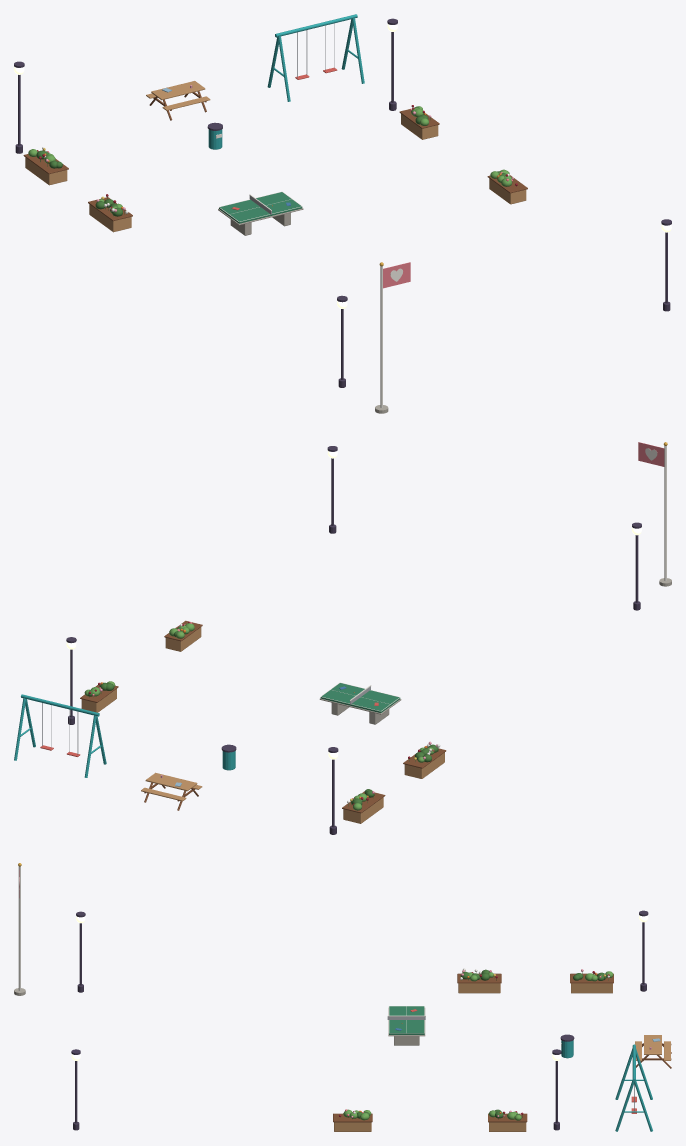
File: yard-props.glb
3 views of the same model, one above another, from view 1: azimuth 30°, elevation 25°; view 2: azimuth 150°, elevation 25°; view 3: azimuth 270°, elevation 25° (orthographic). The views are drawn at different scales.
Visible parts, largest first — view 1: Yard_wood, Yard_teal, Yard_lamp, Yard_wood_dark, Yard_pingis, Yard_white, Yard_concrete, Yard_green; view 2: Yard_wood, Yard_lamp, Yard_teal, Yard_pingis, Yard_wood_dark, Yard_white, Yard_concrete; view 3: Yard_wood, Yard_lamp, Yard_wood_dark, Yard_teal, Yard_pingis, Yard_white, Yard_green, Yard_concrete, Yard_green_dark.
Part boxes in pixels (left/top/right/bottom): Yard_wood: left=25, top=81, right=526, bottom=232; Yard_teal: left=208, top=14, right=364, bottom=149; Yard_lamp: left=14, top=18, right=671, bottom=387; Yard_wood_dark: left=23, top=91, right=527, bottom=221; Yard_pingis: left=219, top=192, right=302, bottom=223; Yard_white: left=42, top=134, right=509, bottom=407; Yard_concrete: left=218, top=208, right=388, bottom=413; Yard_green: left=28, top=106, right=512, bottom=213; Yard_wood: left=81, top=627, right=444, bottom=823; Yard_lamp: left=66, top=446, right=641, bottom=834; Yard_teal: left=14, top=694, right=235, bottom=777; Yard_pingis: left=320, top=683, right=400, bottom=712; Yard_wood_dark: left=80, top=620, right=446, bottom=813; Yard_white: left=180, top=446, right=666, bottom=803; Yard_concrete: left=319, top=578, right=671, bottom=724; Yard_wood: left=334, top=983, right=670, bottom=1131; Yard_lamp: left=71, top=910, right=648, bottom=1130; Yard_wood_dark: left=333, top=973, right=671, bottom=1122; Yard_teal: left=561, top=1040, right=652, bottom=1131; Yard_pingis: left=389, top=1006, right=424, bottom=1034; Yard_white: left=18, top=866, right=609, bottom=1113; Yard_green: left=343, top=971, right=613, bottom=1120; Yard_concrete: left=14, top=988, right=425, bottom=1045; Yard_green_dark: left=340, top=969, right=608, bottom=1119.
Bounding box in the file's own units: 14.91 × 6.16 × 28.06.
